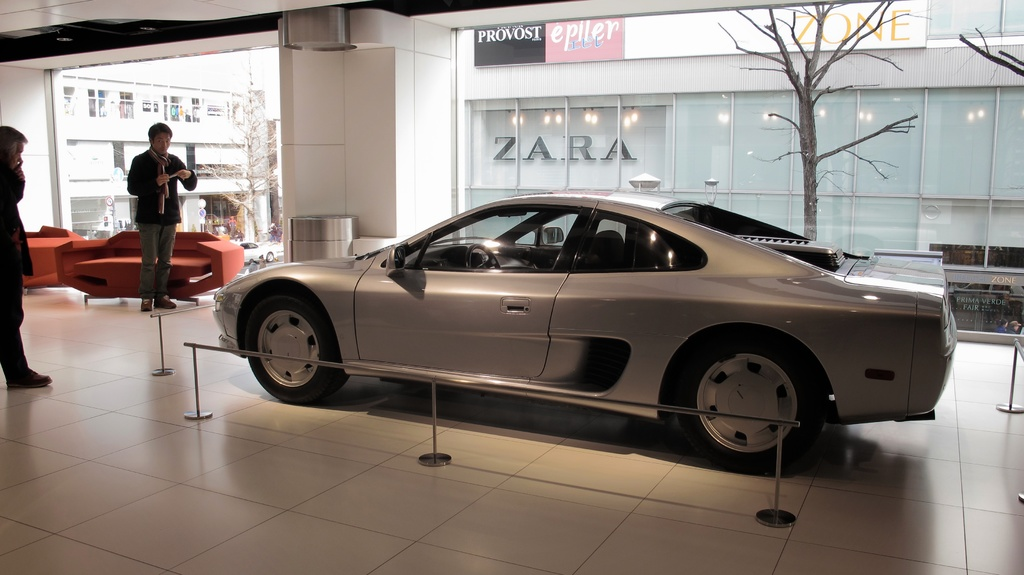Car: (163, 187, 932, 465)
